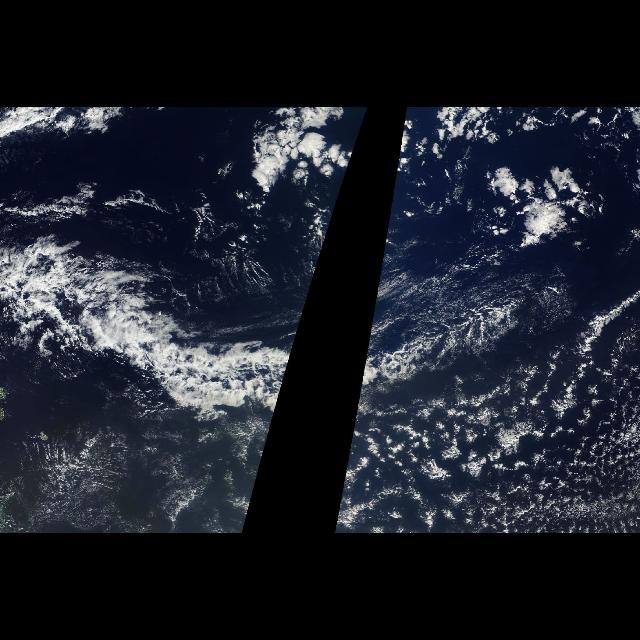Fish: (9, 242, 318, 418)
Flower: (426, 108, 610, 242), (222, 110, 368, 220)
Gravel: (383, 344, 633, 526)
Sugar: (366, 224, 566, 352), (242, 224, 331, 352)
